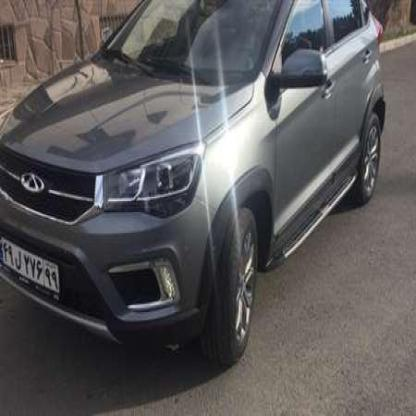Car: (0, 0, 394, 372)
